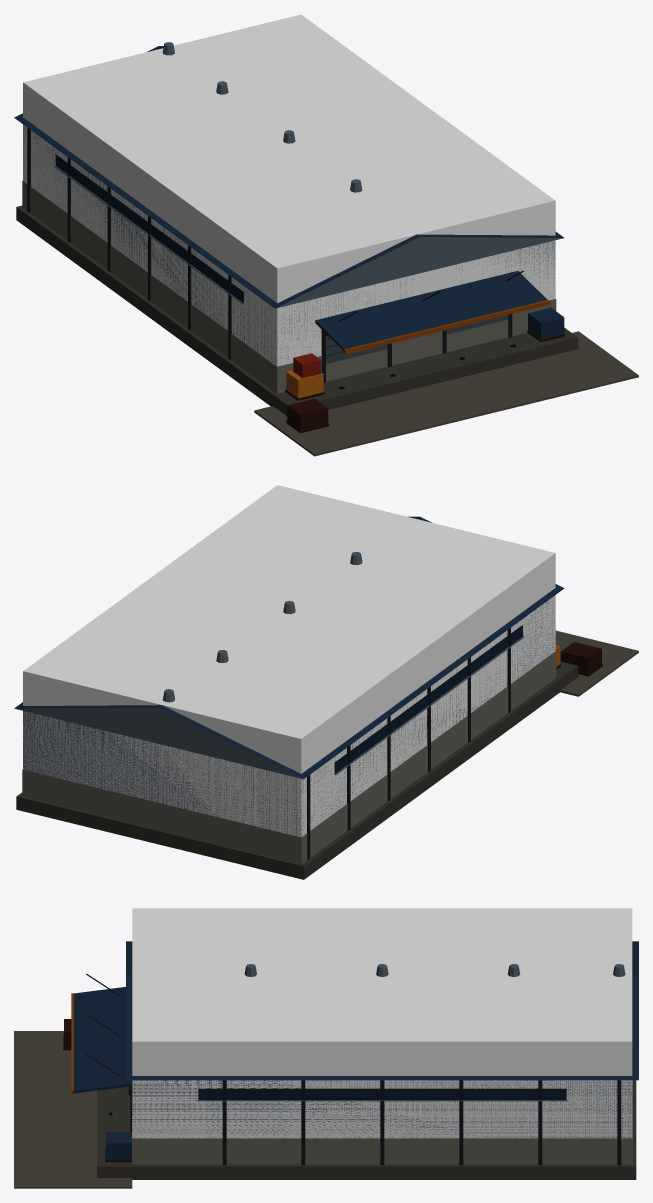
Rendered from B22_warehouse.glb.
The picture shows the model from 3 angles, top to bottom: view 1: azimuth 30°, elevation 25°; view 2: azimuth 150°, elevation 25°; view 3: azimuth 270°, elevation 25°; orthographic projection.
Visible parts, largest first — view 1: COL_Main, LOD0; view 2: COL_Main, LOD0; view 3: COL_Main, LOD0.
Part boxes in pixels (x1,y1,x2,y2): COL_Main: (23, 14, 555, 366); LOD0: (14, 42, 638, 456); COL_Main: (23, 485, 555, 836); LOD0: (14, 516, 638, 879); COL_Main: (132, 908, 632, 1138); LOD0: (14, 941, 638, 1188).
Size of what is drawn, in the model's own units: 28 by 12.16 by 47.5.
